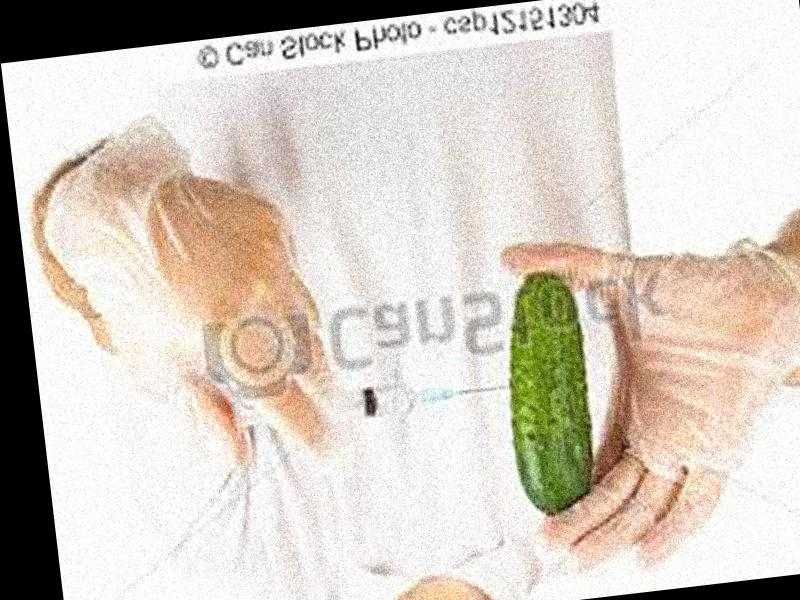Cucumber: (497, 263, 605, 518)
